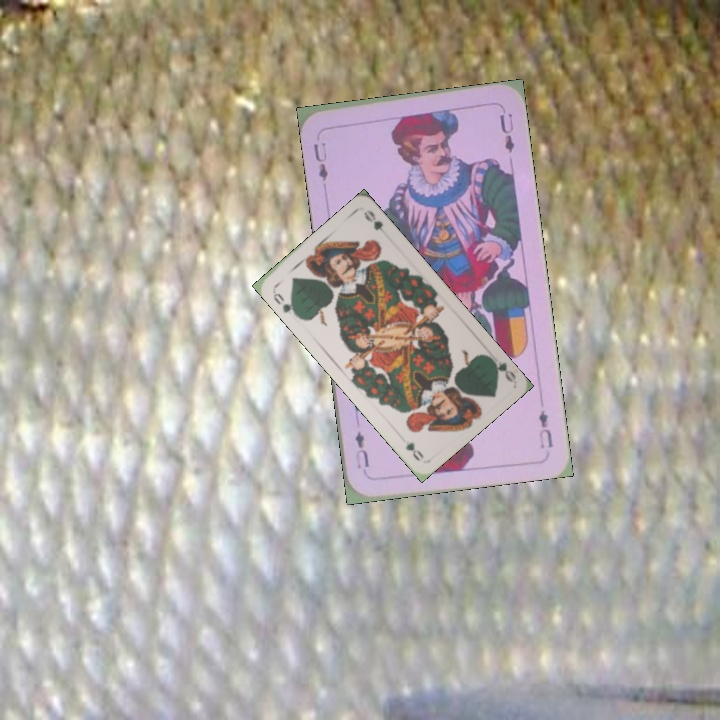EU: (309, 138, 331, 184), (534, 407, 556, 451)
GO: (483, 352, 518, 384), (269, 286, 300, 319)
